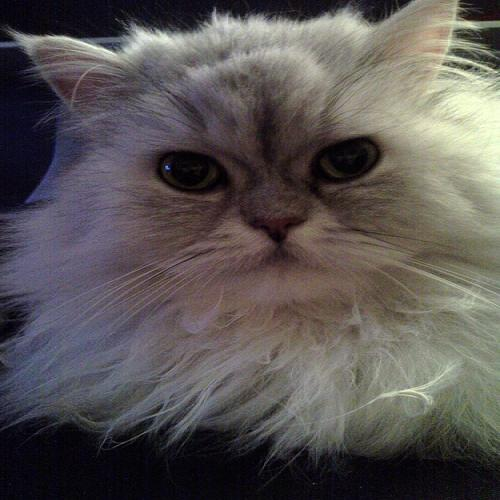persian: (15, 1, 500, 317)
